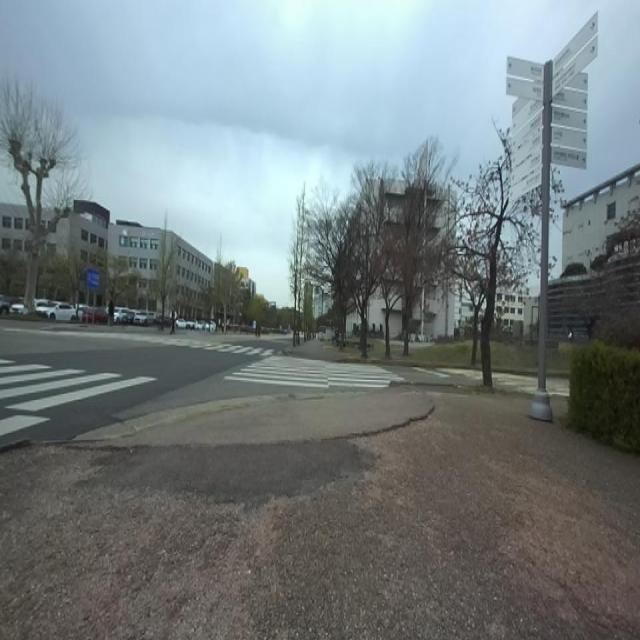sidewalk: (0, 381, 640, 638), (72, 388, 434, 447), (284, 339, 361, 362), (368, 355, 386, 363)
